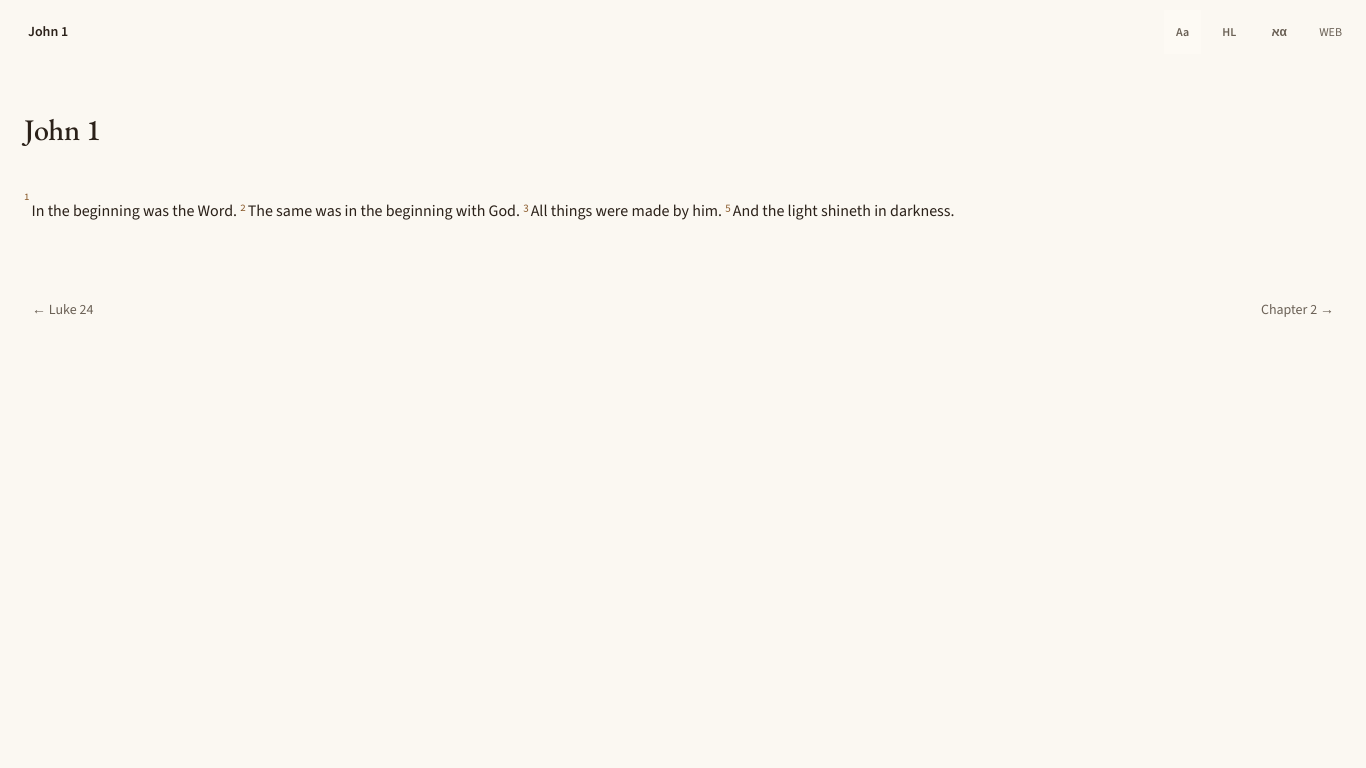
it: A027/A028 through the reader page › walks the chapter from inside the panel, skipping a verse that renders nothing
The width and height of the screenshot is (1366, 768).
Step 1. Click the button "2" → coordinates (243, 207), box [240,200,246,214]
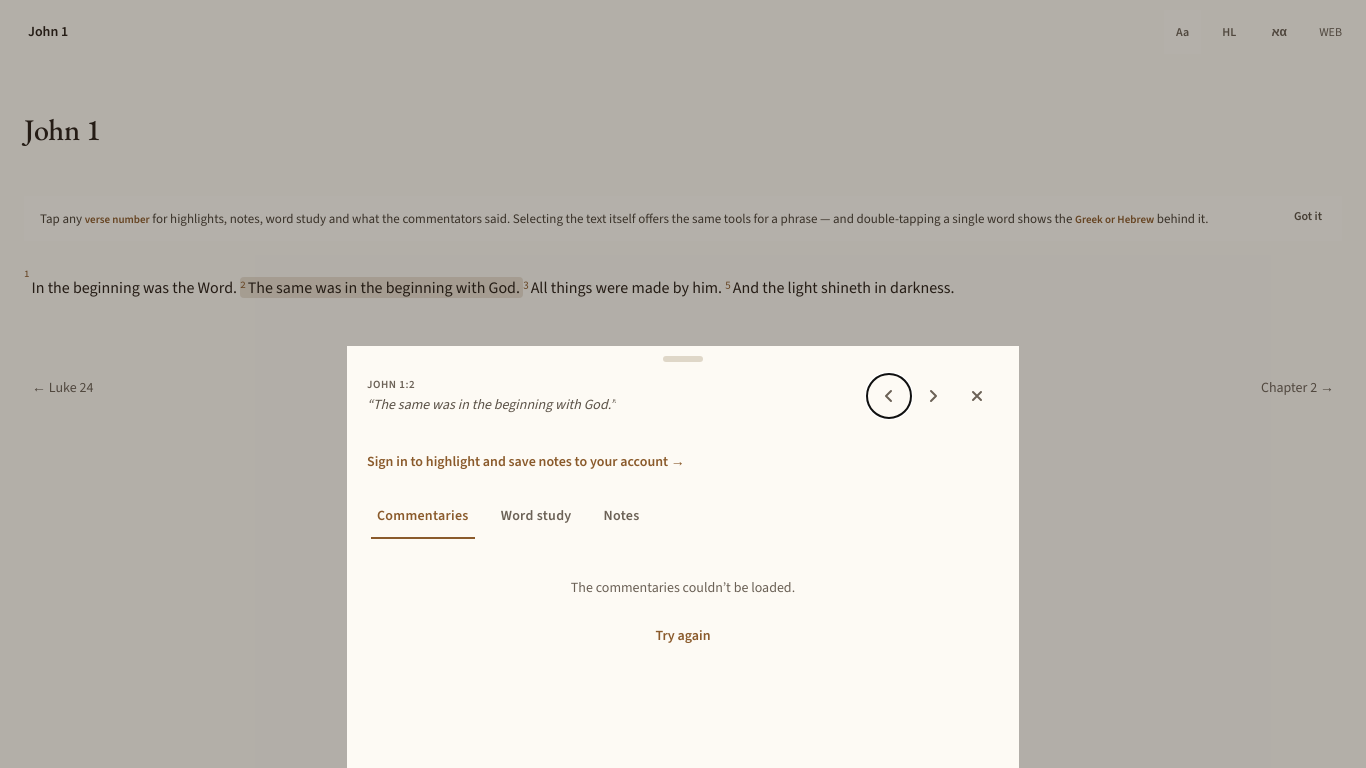
Expected: the text "John 1:2" is shown, [367,377,415,392]
Step 2. Click the button named "Next verse" → coordinates (933, 396), box [911,374,955,418]
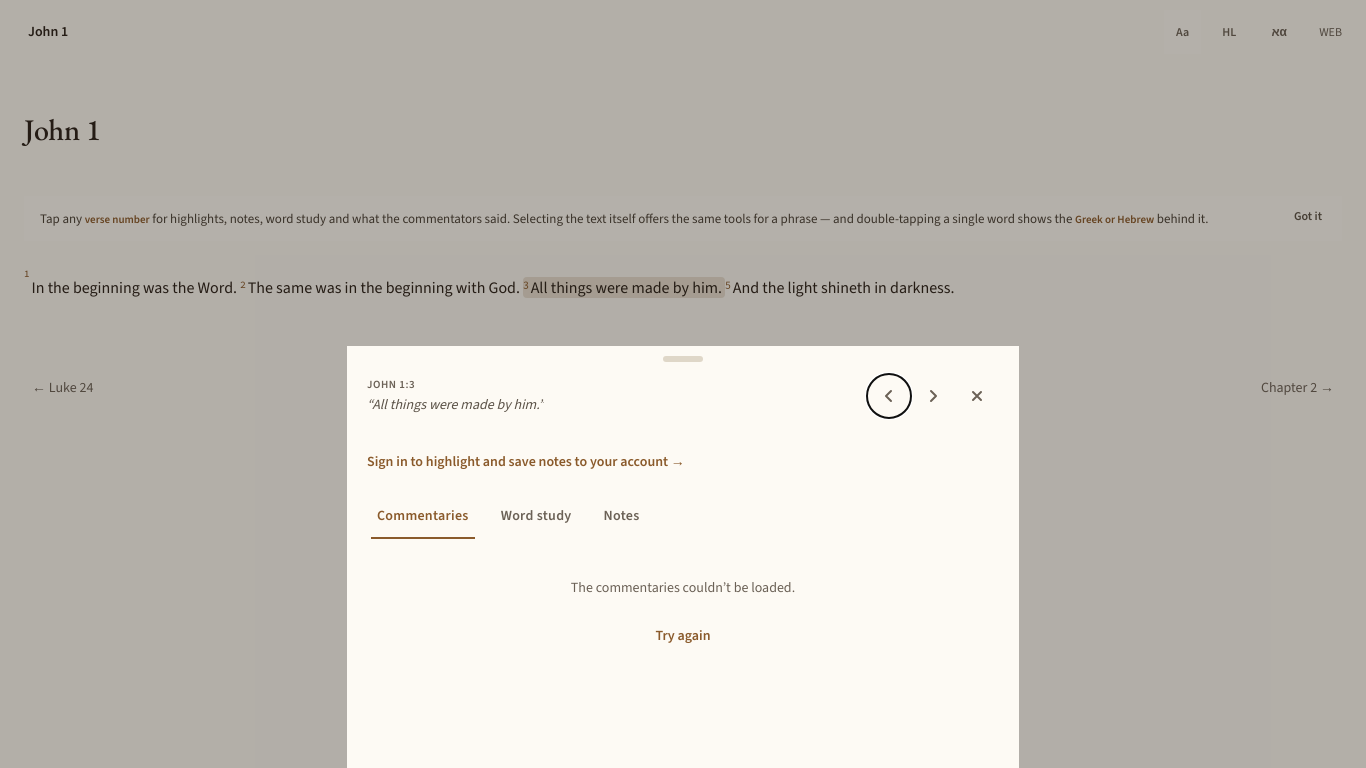
Expected: the text "John 1:3" is shown, [367,377,415,392]
Expected: the text "“All things were made by him.”" is shown, [367,395,544,414]
Step 3. Click the button named "Next verse" → coordinates (933, 396), box [911,374,955,418]
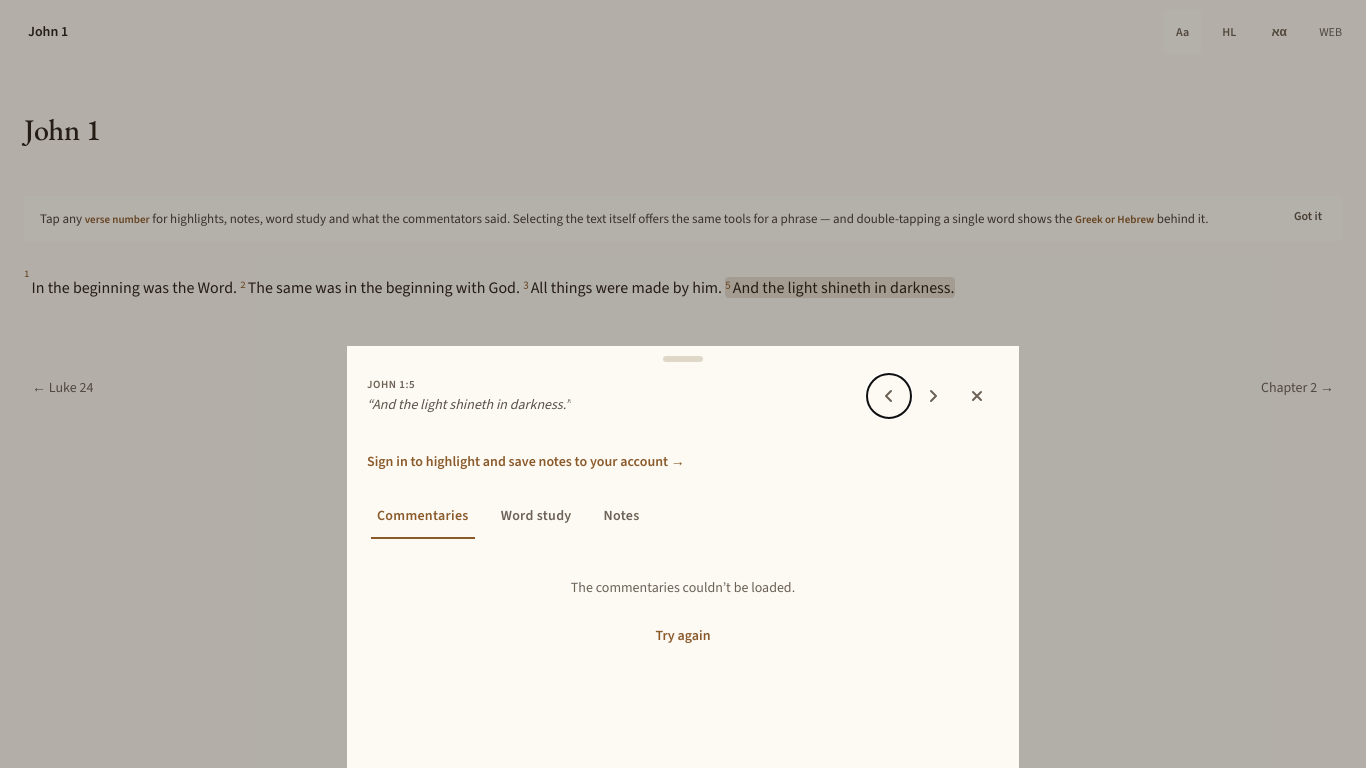
Expected: the text "John 1:5" is shown, [367,377,415,392]
Step 4. Click the button named "Previous verse" → coordinates (889, 396), box [867,374,911,418]
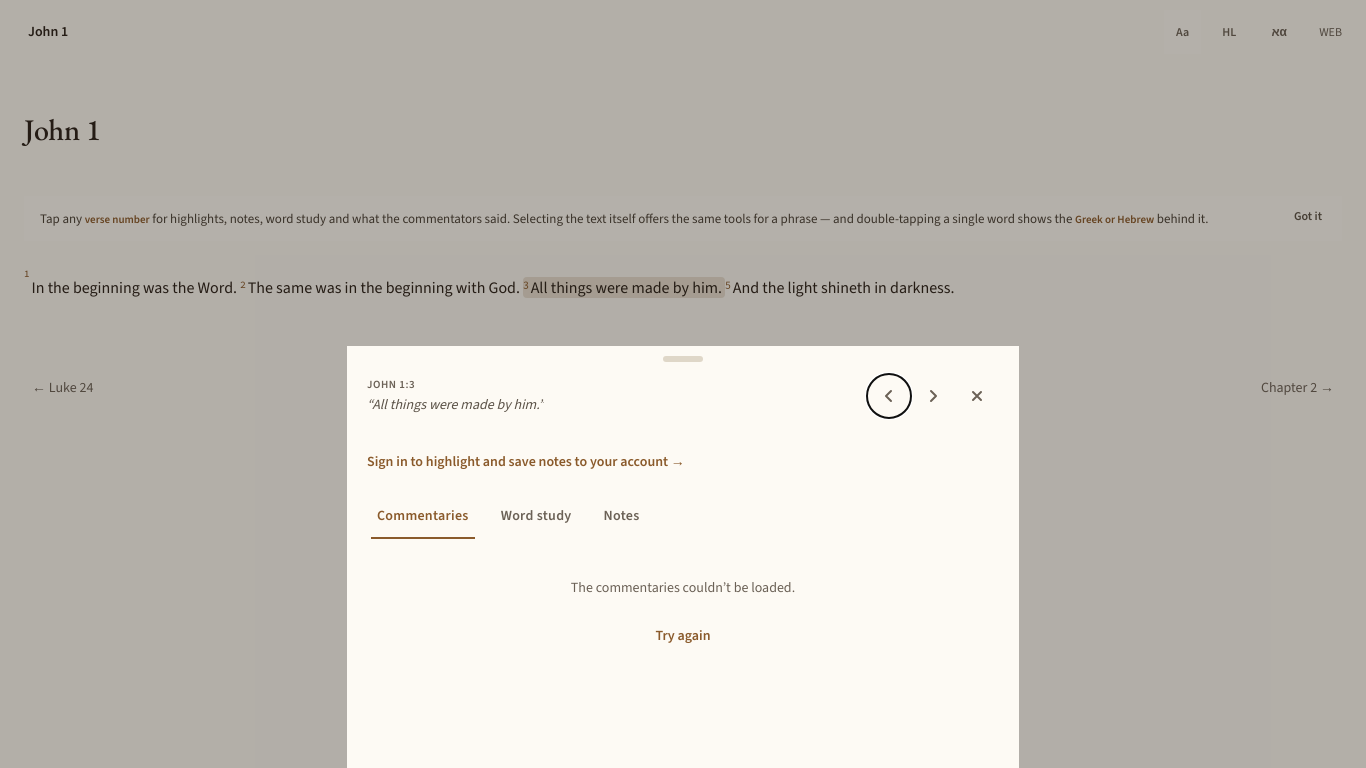
Expected: the text "John 1:3" is shown, [367,377,415,392]
